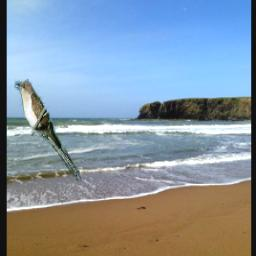Cuckoo: (14, 79, 83, 184)
